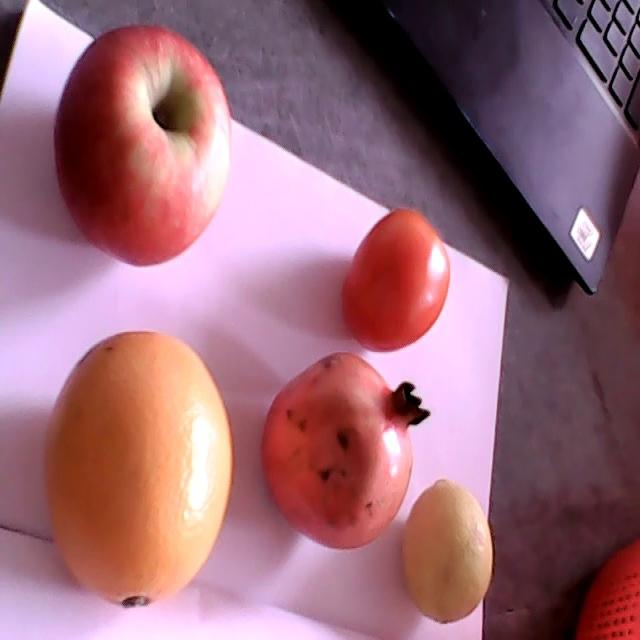apple: (54, 26, 232, 266)
lemon: (400, 478, 493, 624)
orange: (44, 330, 234, 608)
pomegranate: (263, 351, 429, 550)
tomato: (341, 209, 451, 351)
